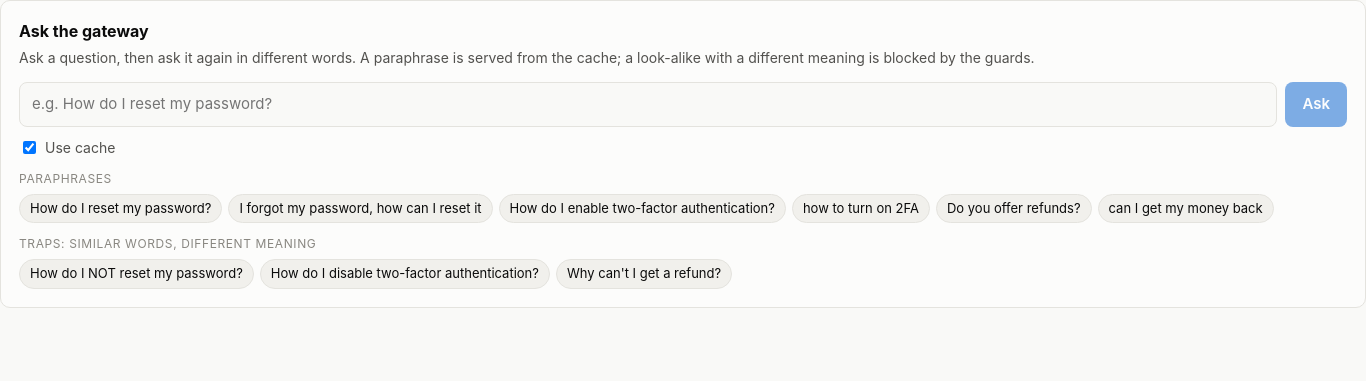
Test: QueryPlayground › shows the API's error message
This screenshot has width=1366, height=381.
What coordinates should you click on to do the following:
click the button "Do you offer refunds?"
I would click on:
 (1014, 208)
Its box is [936, 194, 1092, 223].
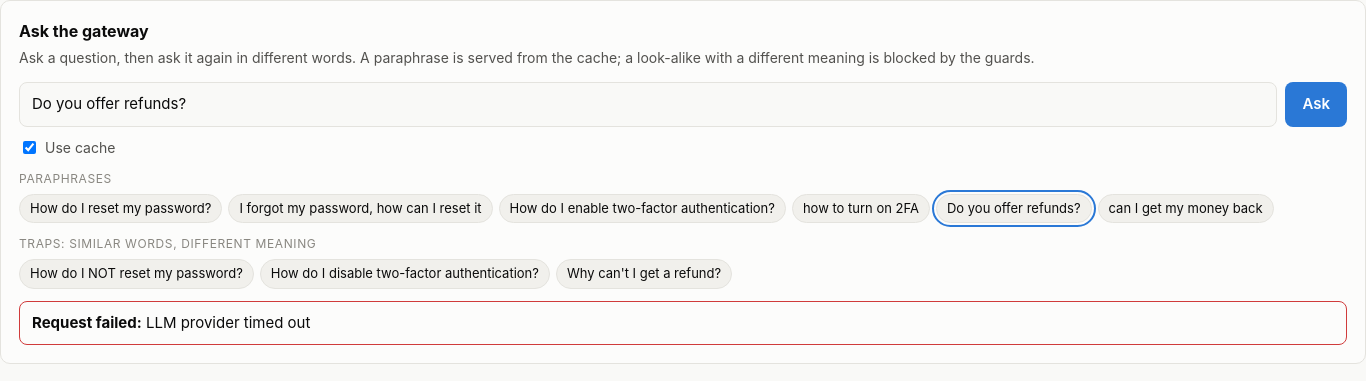
Result: the message shows "LLM provider timed out" at [146, 312, 310, 332]
